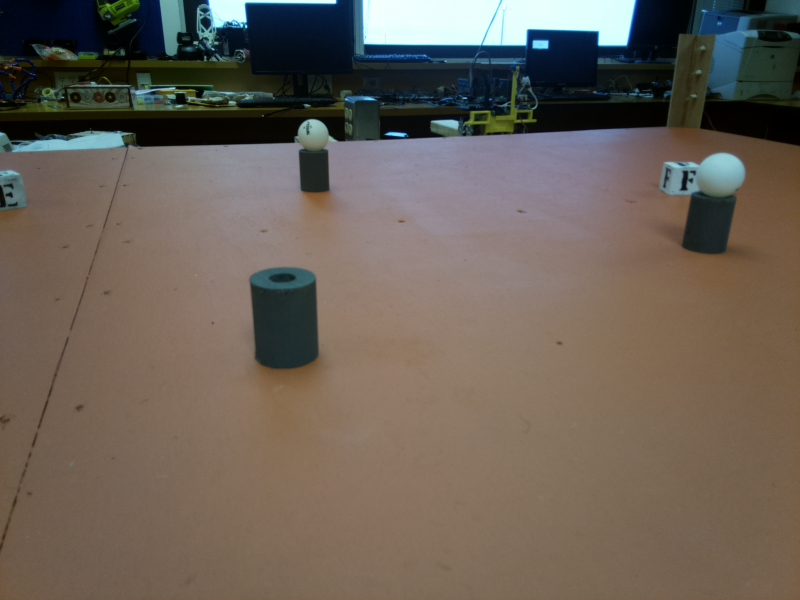blockE: (1, 168, 26, 213)
blockF: (663, 158, 696, 194)
corner: (669, 33, 710, 123)
obstacle: (246, 260, 322, 368), (693, 153, 748, 249), (297, 117, 333, 199)
